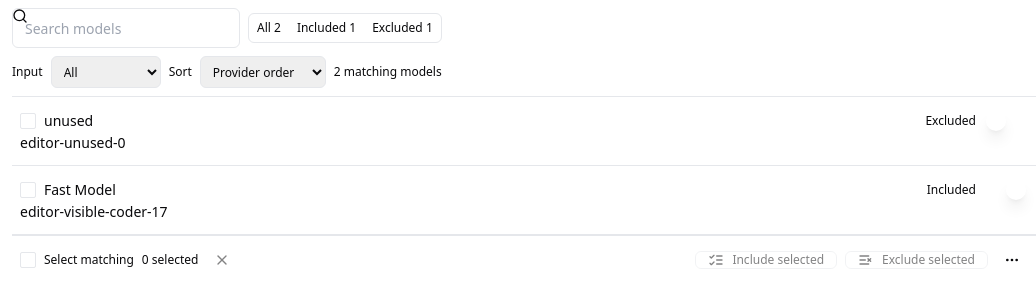
Scenario: large catalog viewport › searches identities, aliases and display names without losing editor indices
Type "VISIBLE-CODER" into the search field labelled "Search models".
click(126, 28); type("VISIBLE-CODER")  # box [12, 8, 240, 48]
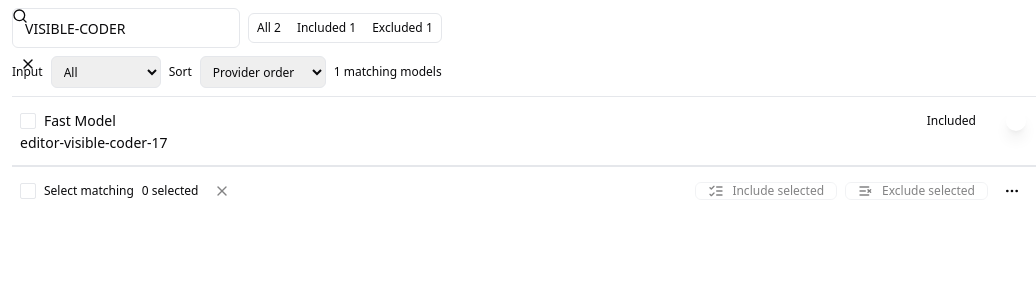
Expected: the text "editor-visible-coder-17" is shown, [20, 133, 168, 152]
Now the text "editor-unused-0" is gone
Now the text "1 matching models" is shown, box [334, 64, 442, 80]
Replace the text in the search field named "Search models" with "wire-coder" at {"x": 126, "y": 28}, box [12, 8, 240, 48]
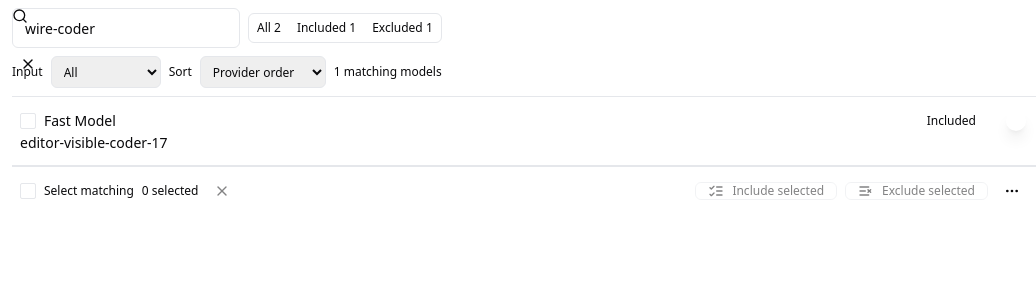
Expected: the text "editor-visible-coder-17" is shown, [20, 133, 168, 152]
Now the text "1 matching models" is shown, box [334, 64, 442, 80]
Replace the text in the search field named "Search models" with "coding-alias" at {"x": 126, "y": 28}, box [12, 8, 240, 48]
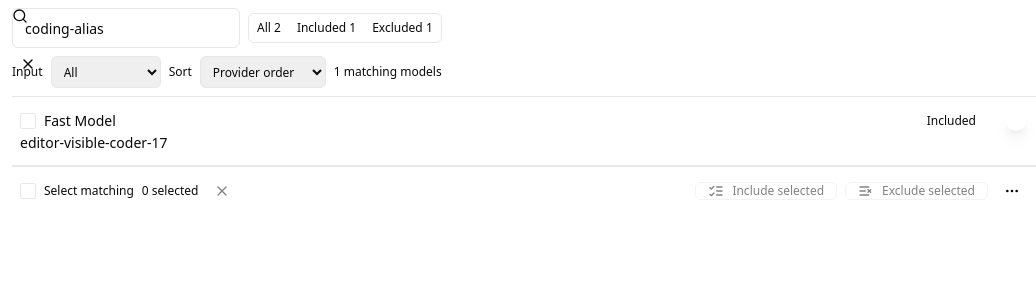
Expected: the text "editor-visible-coder-17" is shown, [20, 133, 168, 152]
Now the text "1 matching models" is shown, box [334, 64, 442, 80]
Replace the text in the search field named "Search models" with "FAST model" at {"x": 126, "y": 28}, box [12, 8, 240, 48]
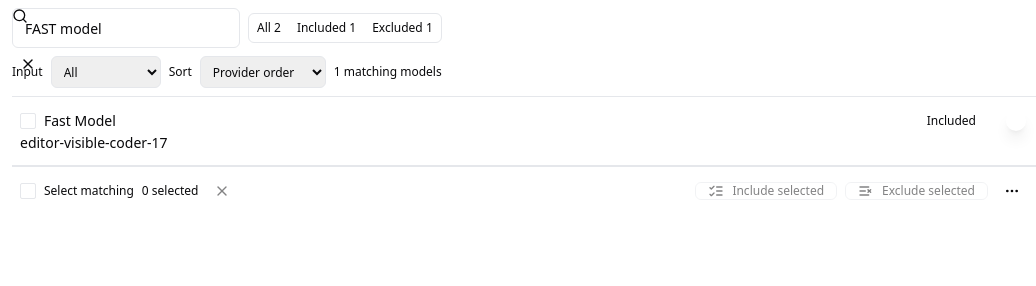
Expected: the text "editor-visible-coder-17" is shown, [20, 133, 168, 152]
Now the text "1 matching models" is shown, box [334, 64, 442, 80]
Replace the text in the search field with "absent" at {"x": 126, "y": 28}, box [12, 8, 240, 48]
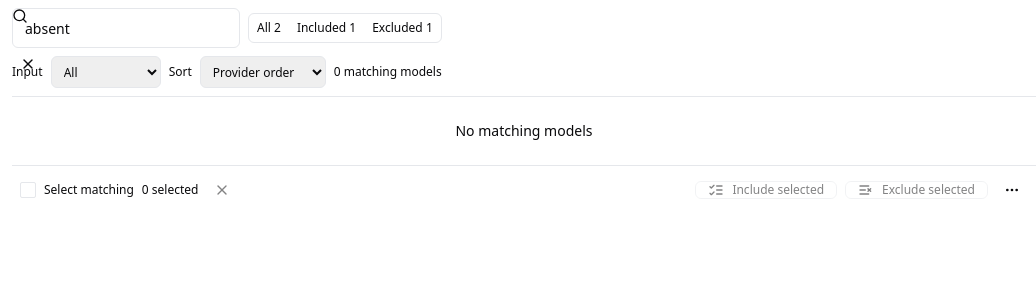
Expected: the button "Include selected" is disabled, [695, 181, 837, 199]
Now the text "No matching models" is shown, box [456, 121, 592, 140]
Click the button named "Clear search".
click(28, 64)  # box [12, 48, 44, 80]
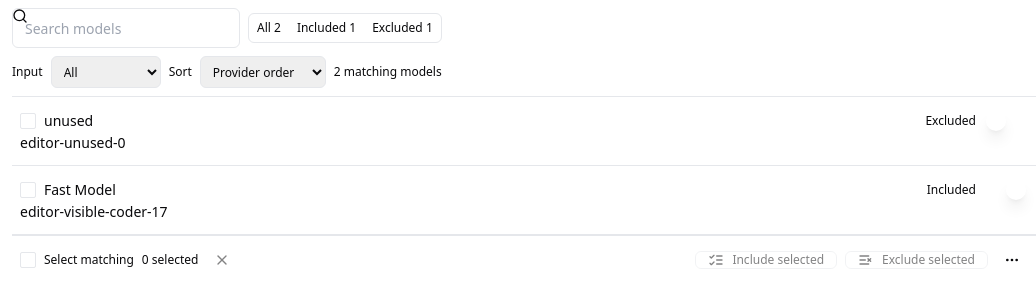
Now the text "editor-unused-0" is shown, box [20, 133, 126, 152]
